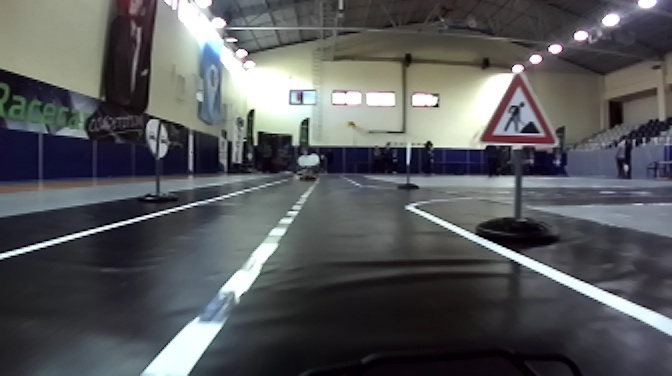yol_yapimi: (468, 69, 564, 148)
